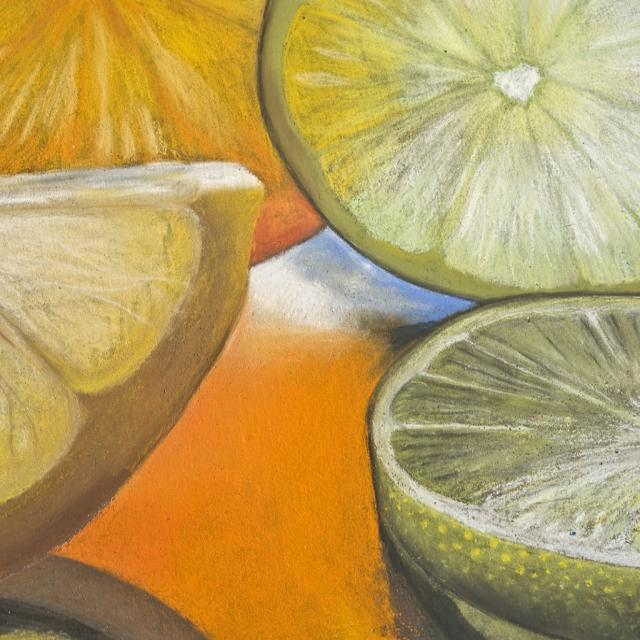Lemon: (255, 0, 640, 302), (0, 159, 263, 588), (366, 293, 640, 639)
